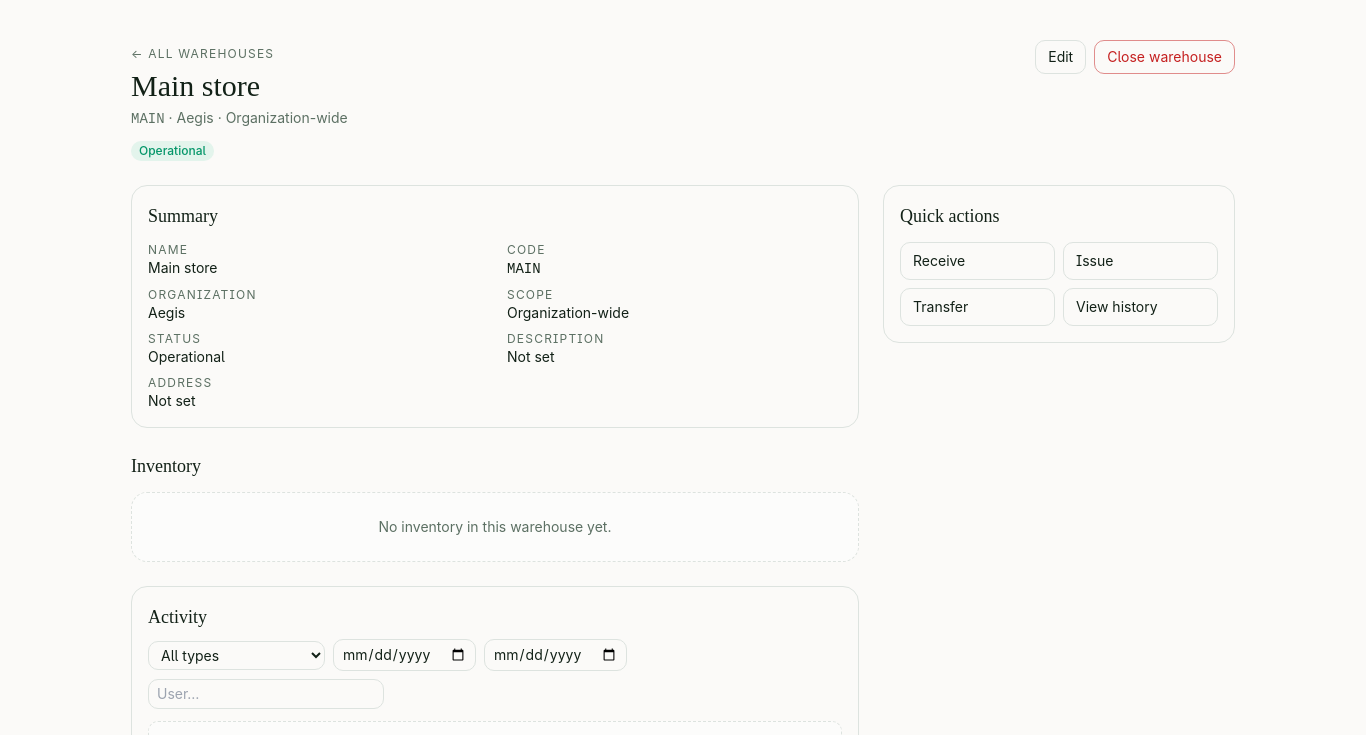
Test: Warehouse edit / close / reopen › surfaces a friendly permission message when edit returns 403
The image size is (1366, 735).
Step 1. Click the button with test id "warehouse-header-edit" → [1061, 57], box x1=1035 y1=40 x2=1086 y2=74
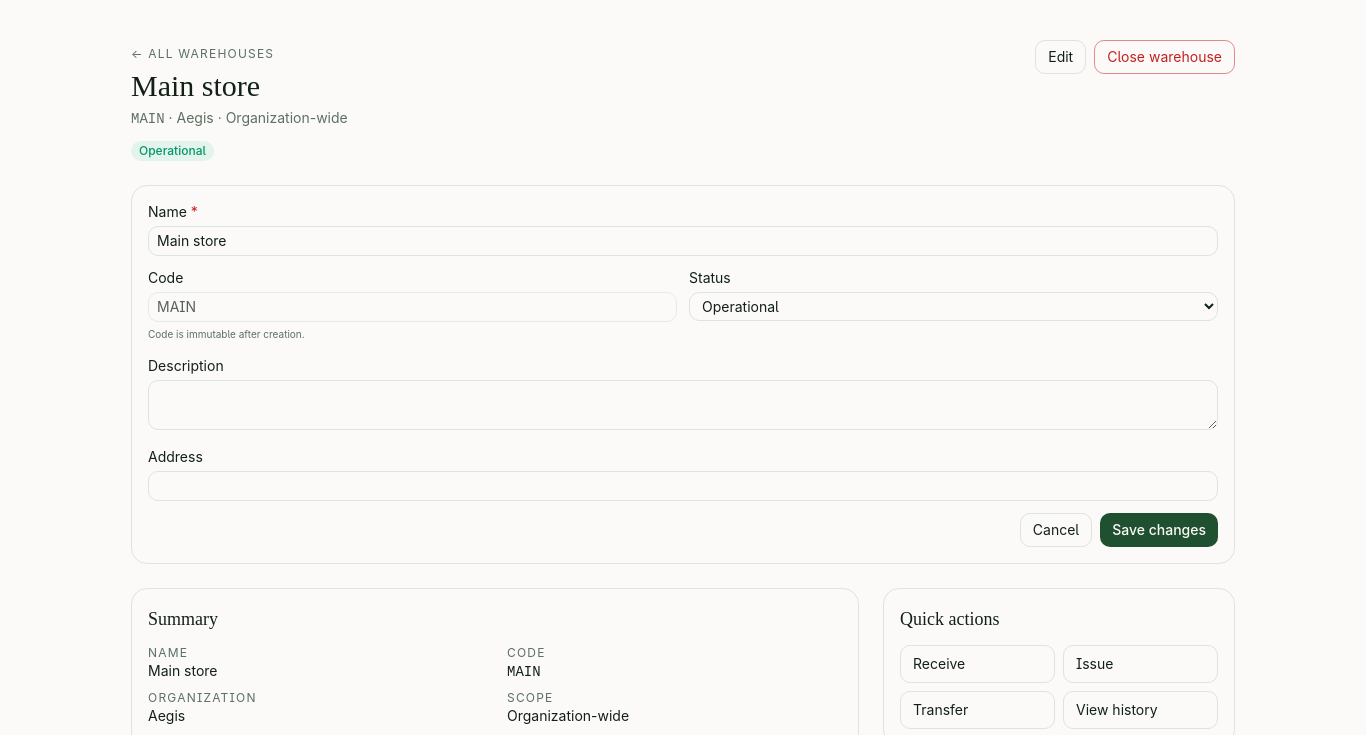
Step 2. Replace the text in the field with test id "warehouse-form-edit-name" with "Renamed" → [683, 241], box x1=148 y1=226 x2=1218 y2=256
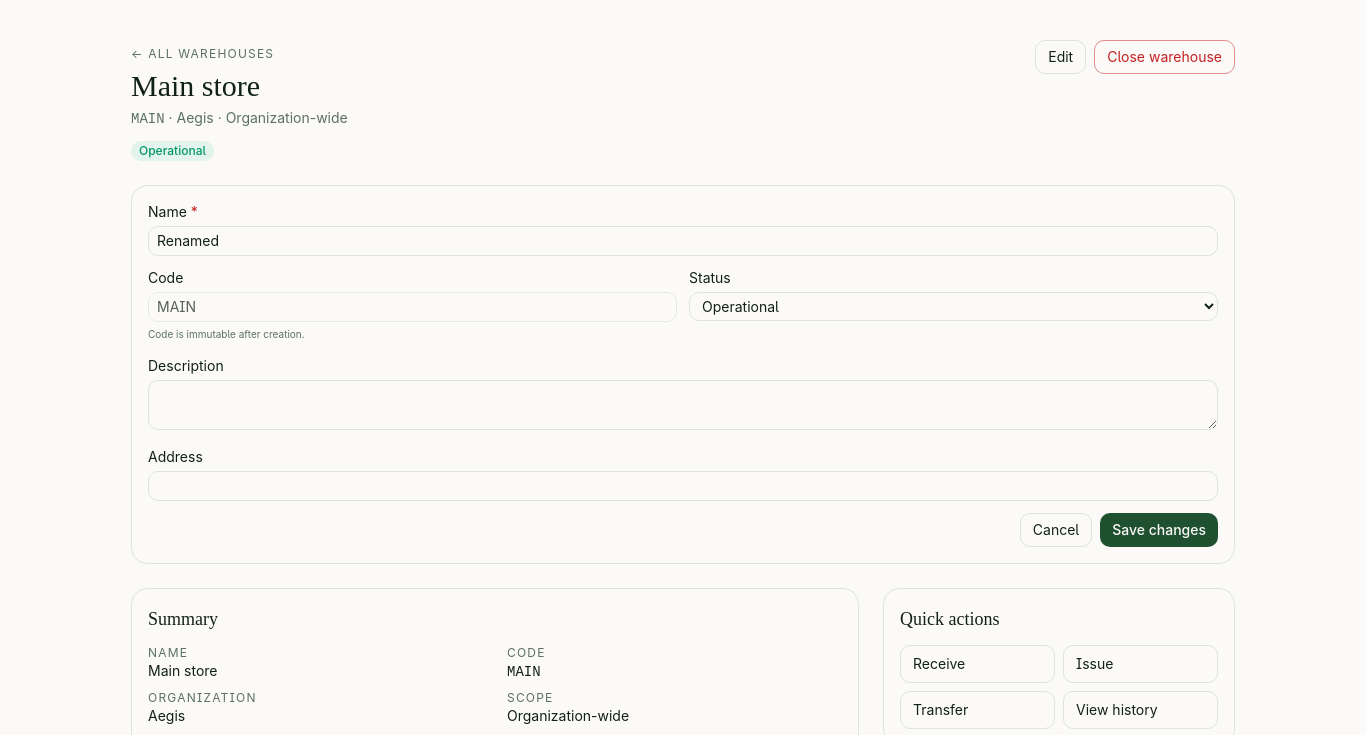
Step 3. Click the button with test id "warehouse-form-edit-submit" → [1159, 530], box x1=1100 y1=513 x2=1218 y2=547
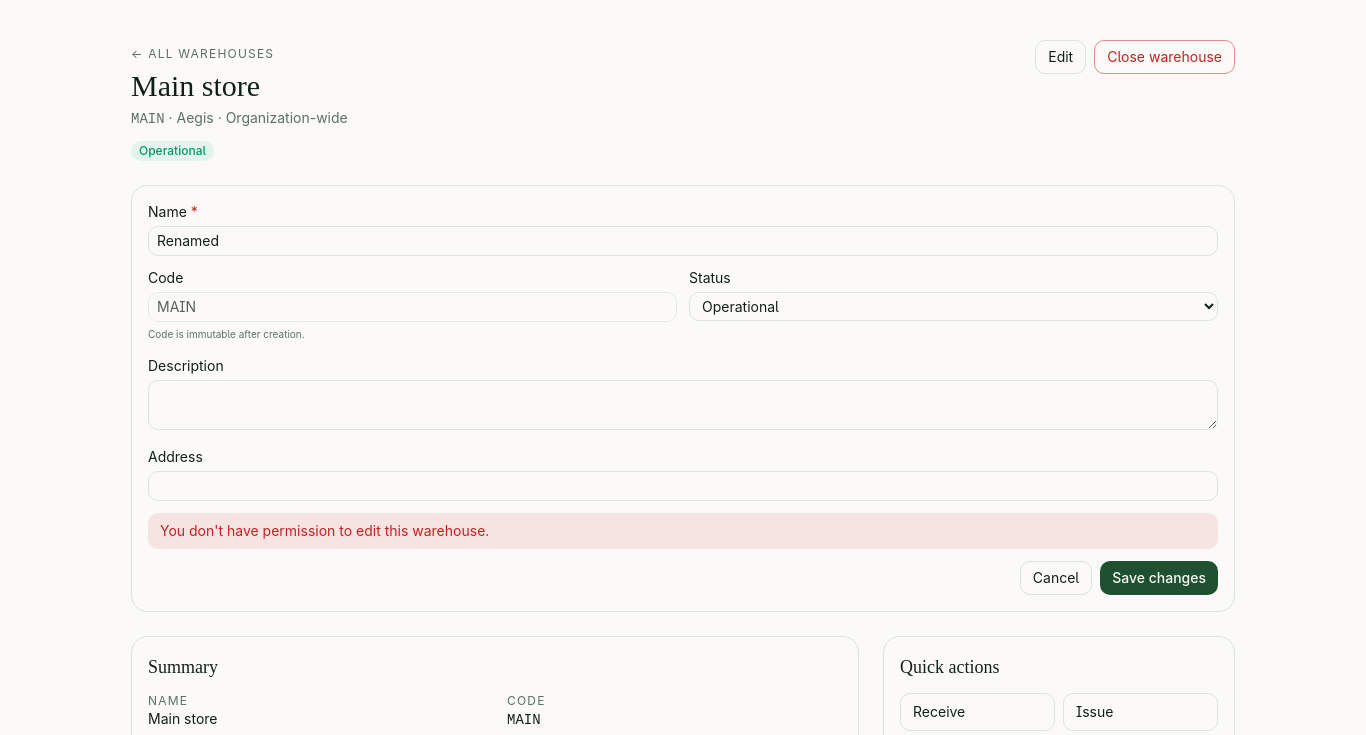
Expected: the message with test id "warehouse-form-edit-error" shows "permission", x1=160 y1=522 x2=489 y2=539
